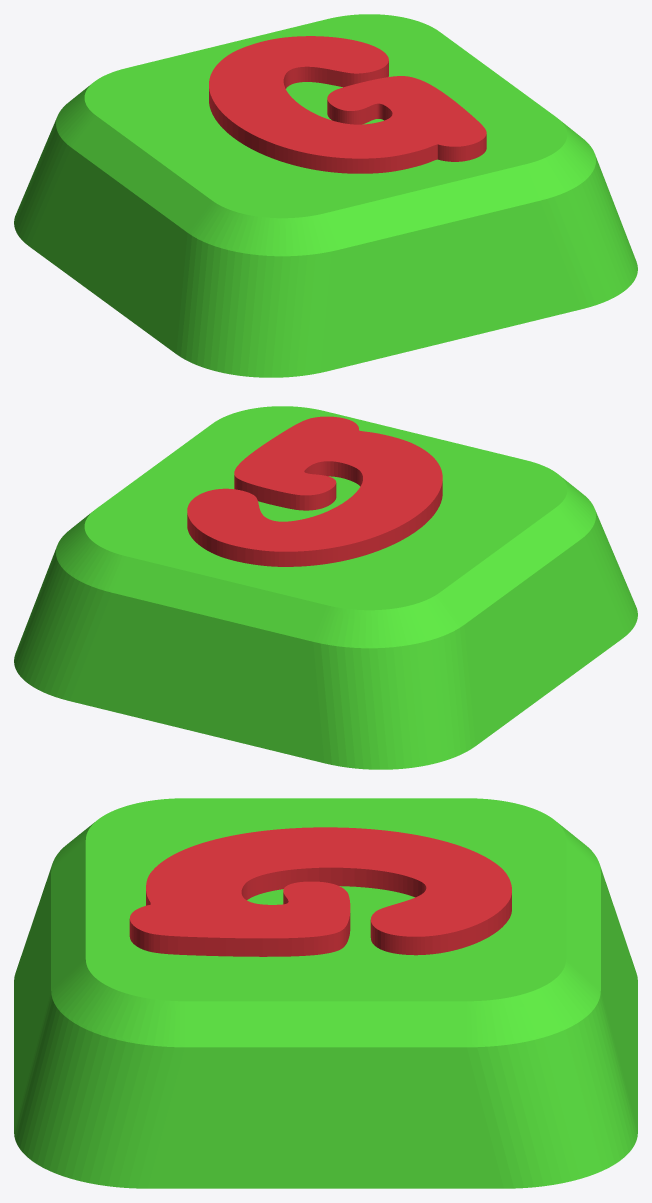
3 views of the same model, one above another, from view 1: azimuth 30°, elevation 25°; view 2: azimuth 150°, elevation 25°; view 3: azimuth 270°, elevation 25° (orthographic). The views are drawn at different scales.
Parts seen in each view (by area): view 1: CAPS_G, FONT_G; view 2: CAPS_G, FONT_G; view 3: CAPS_G, FONT_G.
Boxes of the visible parts, x1,y1,x2,y2 form: CAPS_G: (14, 14, 637, 377); FONT_G: (209, 36, 486, 173); CAPS_G: (14, 406, 637, 769); FONT_G: (187, 416, 442, 566); CAPS_G: (14, 798, 637, 1188); FONT_G: (129, 827, 511, 956).
Size of the model in its own units: 18 by 5.59 by 18.
